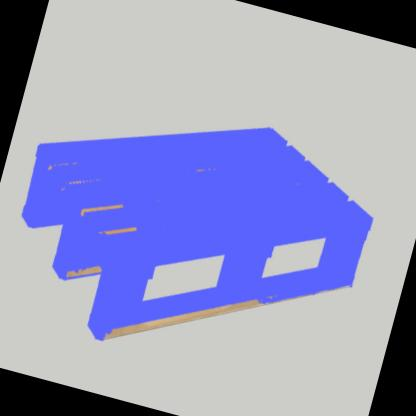BoxFace: (18, 119, 380, 347)
